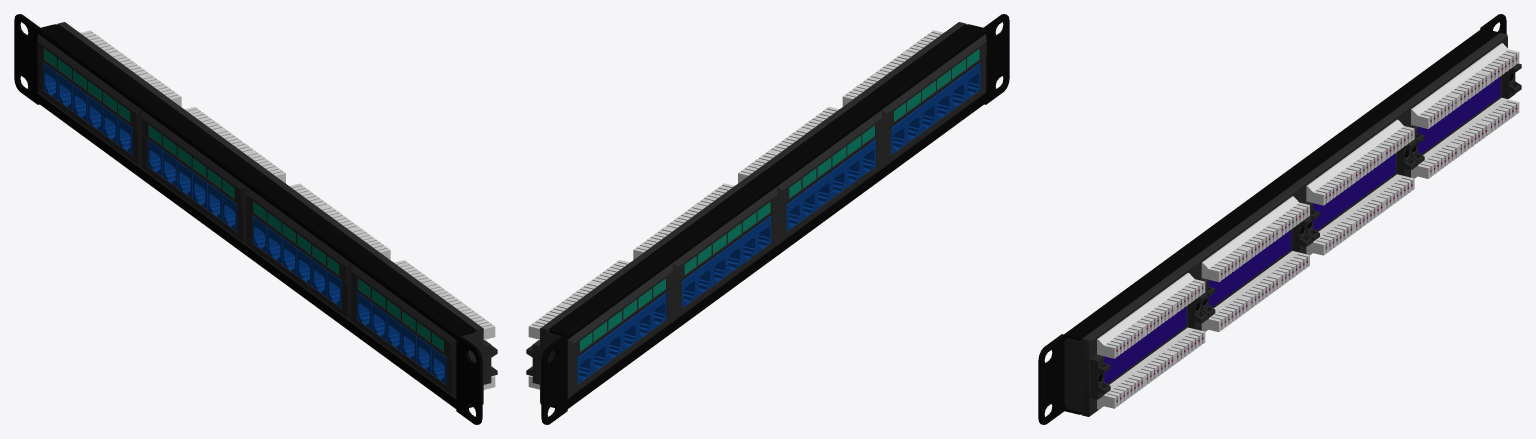
File: Patch_panel_24_ports.fbx
The picture shows the model from 3 angles, left to right: view 1: azimuth 30°, elevation 25°; view 2: azimuth 150°, elevation 25°; view 3: azimuth 330°, elevation 25°; orthographic projection.
Parts seen in each view (by area): view 1: Corpus_patch_panel, Plastic_contact_mount_port_23, Patch_panel_cell_fastenings; view 2: Corpus_patch_panel, Plastic_contact_mount_port_1, Patch_panel_cell_fastenings; view 3: Corpus_patch_panel, Patch_panel_cell_fastenings, Plastic_contact_mount_port_17, Plastic_contact_mount_port_11, Plastic_contact_mount_port_5, Plastic_contact_mount_port_23, Plastic_contact_mount_port_15, Plastic_contact_mount_port_19, Plastic_contact_mount_port_9, Plastic_contact_mount_port_1, Plastic_contact_mount_port_21, Plastic_contact_mount_port_7 (+14 smaller).
Boxes of the visible parts, <box> form: Corpus_patch_panel: <box>14,14,483,424</box>; Plastic_contact_mount_port_23: <box>454,304,495,339</box>; Patch_panel_cell_fastenings: <box>483,340,497,384</box>; Corpus_patch_panel: <box>540,14,1009,424</box>; Plastic_contact_mount_port_1: <box>528,304,569,339</box>; Patch_panel_cell_fastenings: <box>526,340,540,384</box>; Corpus_patch_panel: <box>1038,14,1507,424</box>; Patch_panel_cell_fastenings: <box>1090,63,1521,399</box>; Plastic_contact_mount_port_17: <box>1201,240,1249,282</box>; Plastic_contact_mount_port_11: <box>1306,164,1353,205</box>; Plastic_contact_mount_port_5: <box>1411,87,1458,128</box>; Plastic_contact_mount_port_23: <box>1097,317,1144,358</box>; Plastic_contact_mount_port_15: <box>1232,218,1279,259</box>; Plastic_contact_mount_port_19: <box>1158,273,1205,314</box>; Plastic_contact_mount_port_9: <box>1337,142,1384,183</box>; Plastic_contact_mount_port_1: <box>1471,43,1519,84</box>; Plastic_contact_mount_port_21: <box>1127,295,1174,336</box>; Plastic_contact_mount_port_7: <box>1367,119,1414,160</box>.
Size of the model in its own units: 0.0295 by 0.0438 by 0.483.
